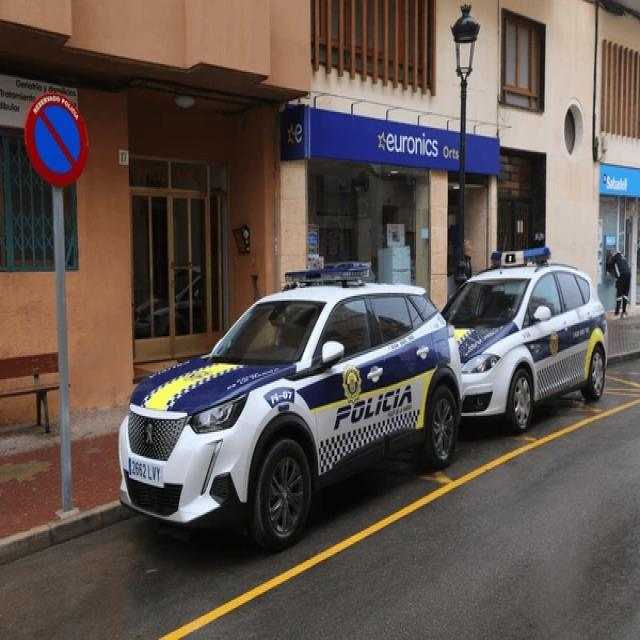pegout: (142, 418, 157, 450)
